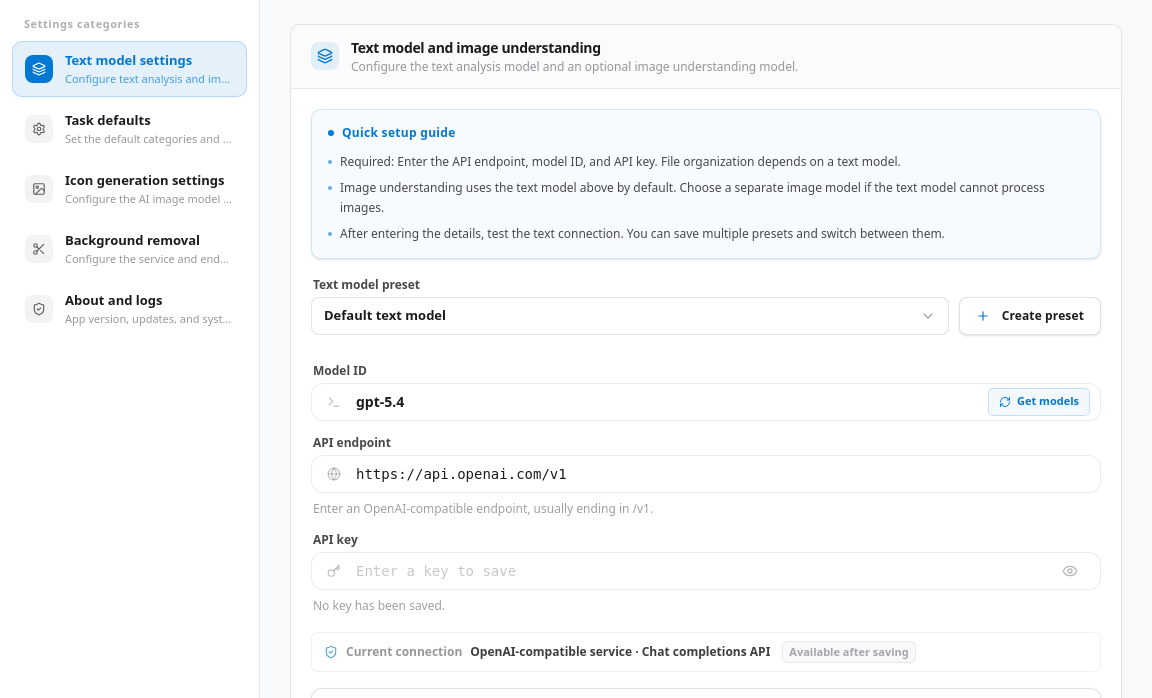
SettingsPage preset flow › localizes settings categories and default preset names without changing custom names
Check: the text "Settings categories" is shown, box top-left (24, 16), bottom-right (140, 31)
Check: the text "Text model settings" is shown, box top-left (65, 52), bottom-right (192, 68)
Click the button "Default text model": (385, 315) top-left (311, 296), bottom-right (949, 334)
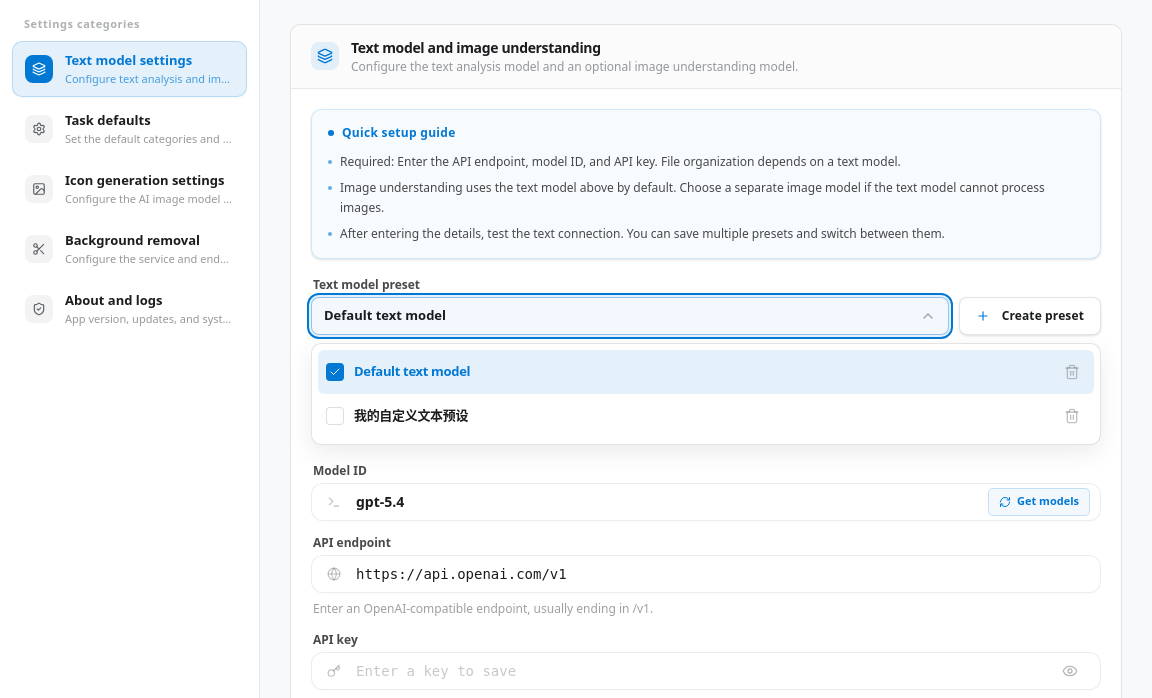
Check: the option "我的自定义文本预设" is shown, box top-left (326, 406), bottom-right (1046, 425)
Click the button "Icon generation settings": (130, 188) top-left (12, 160), bottom-right (247, 216)
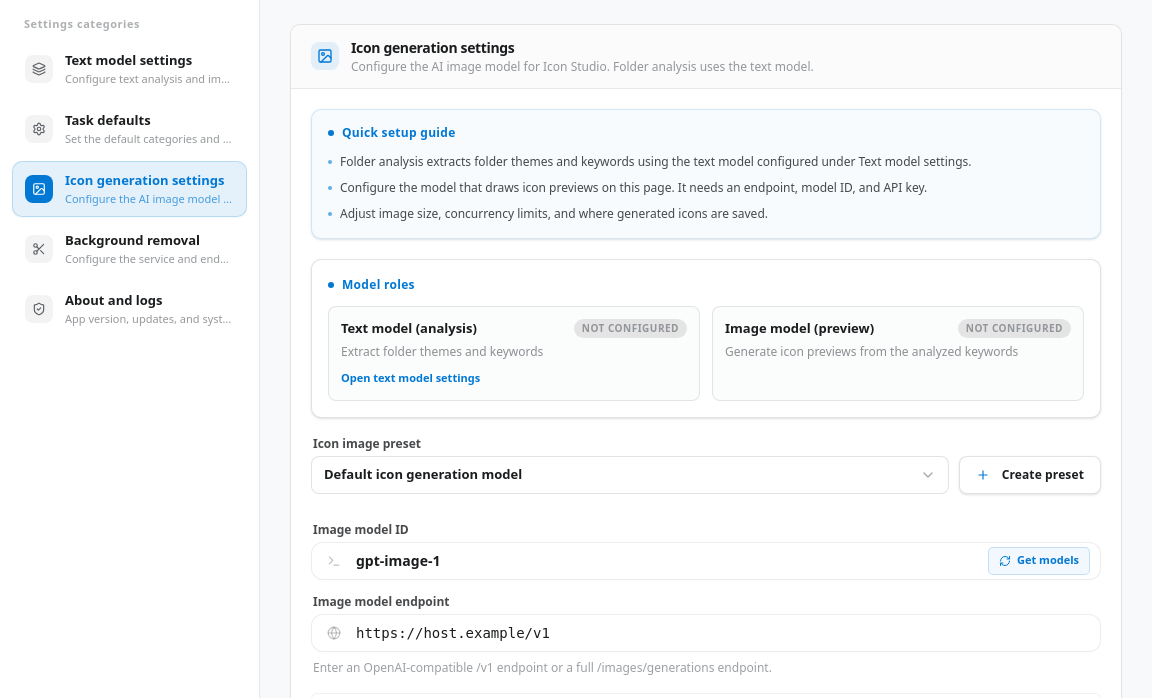
Check: the button "Default icon generation model" is shown, box top-left (311, 456), bottom-right (949, 494)
